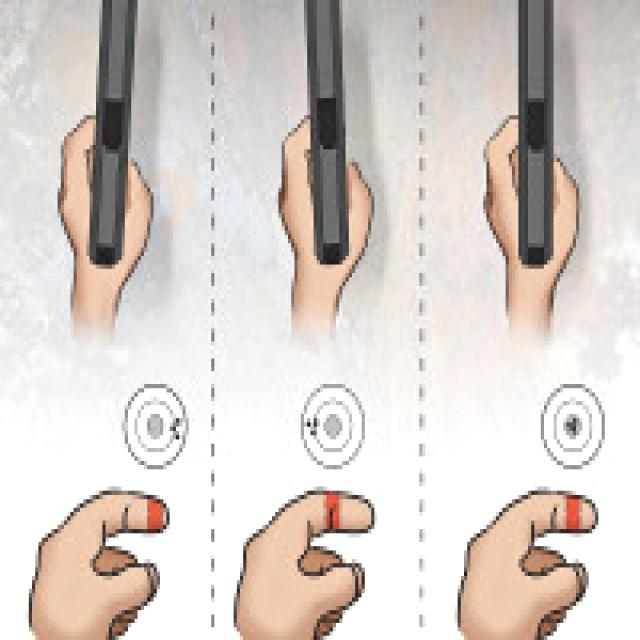pistol: (93, 0, 148, 260), (512, 0, 563, 269), (301, 0, 352, 260)
